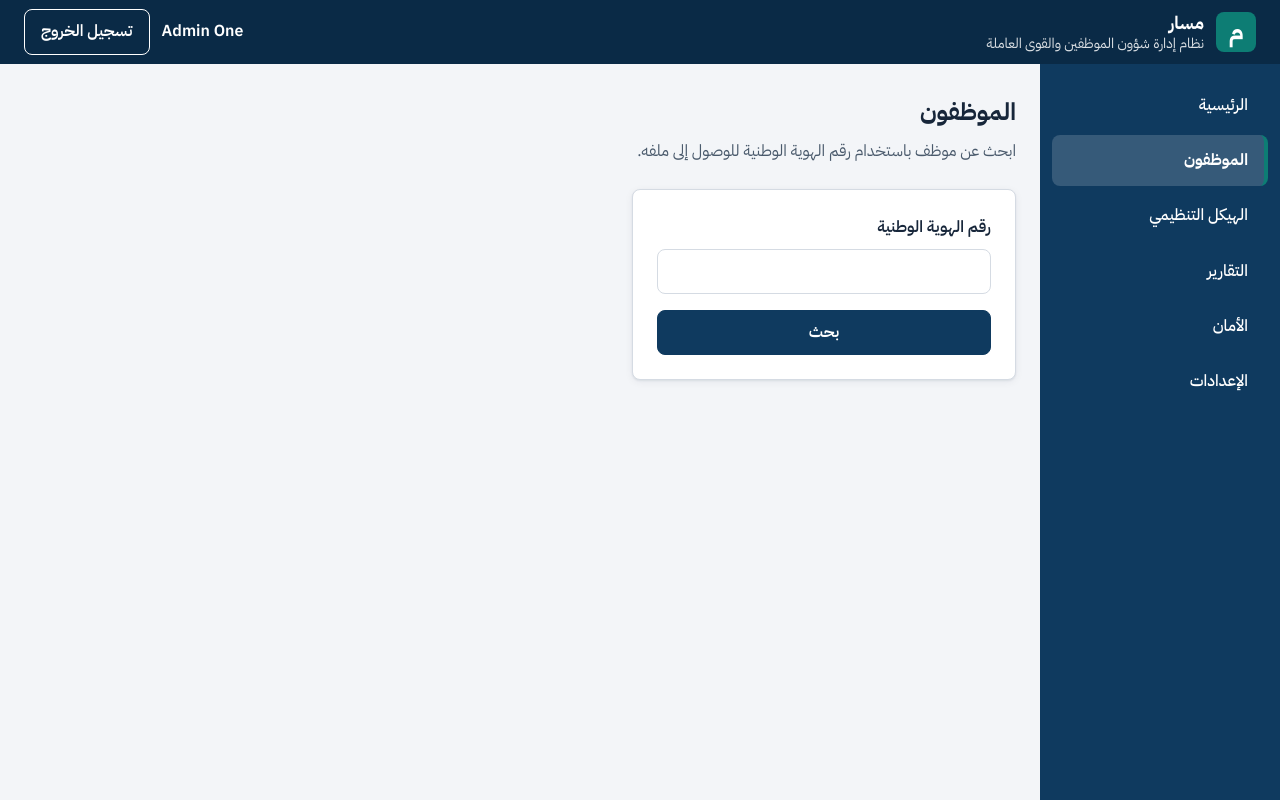
Test: EmployeesPage › shows a not-found message on a 404
Type "0000000000" into the field labelled "رقم الهوية الوطنية" at (824, 272), box [657,249,991,294]
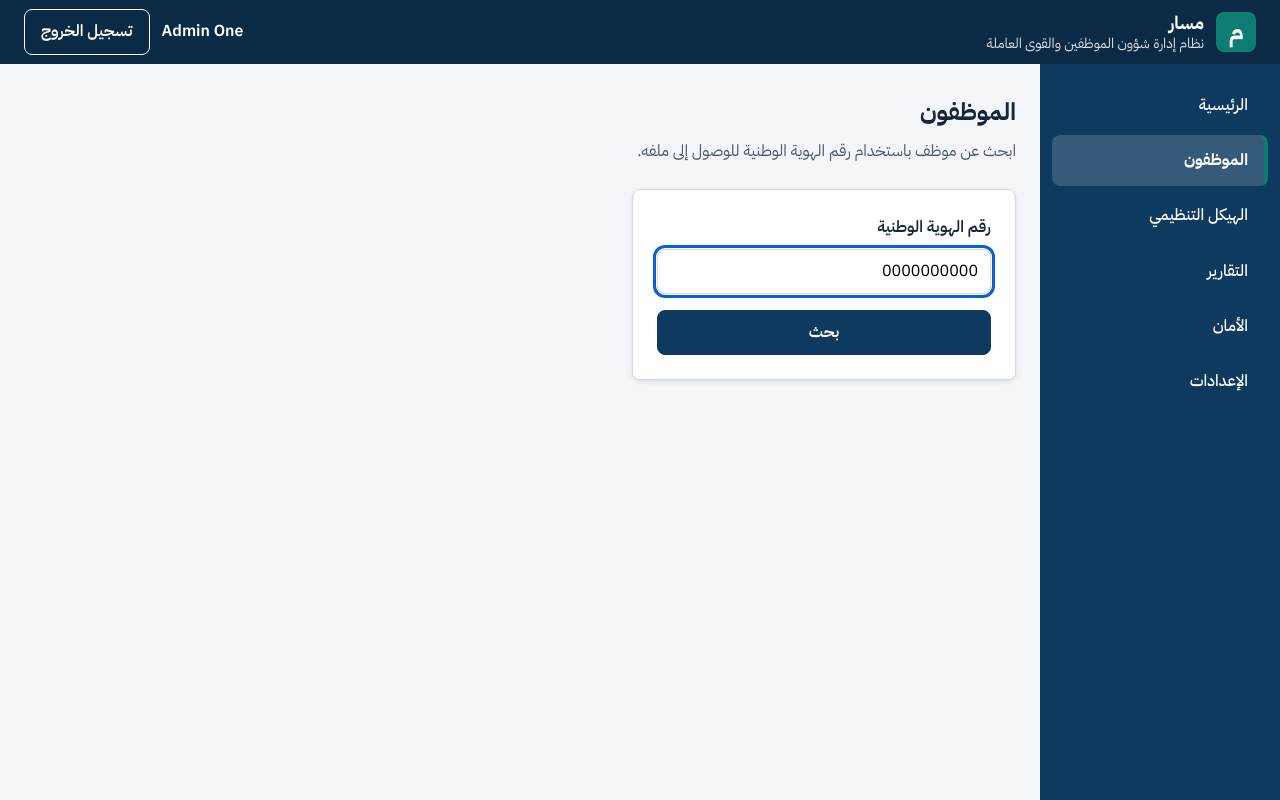
Click the button "بحث" at (824, 333), box [657,310,991,355]
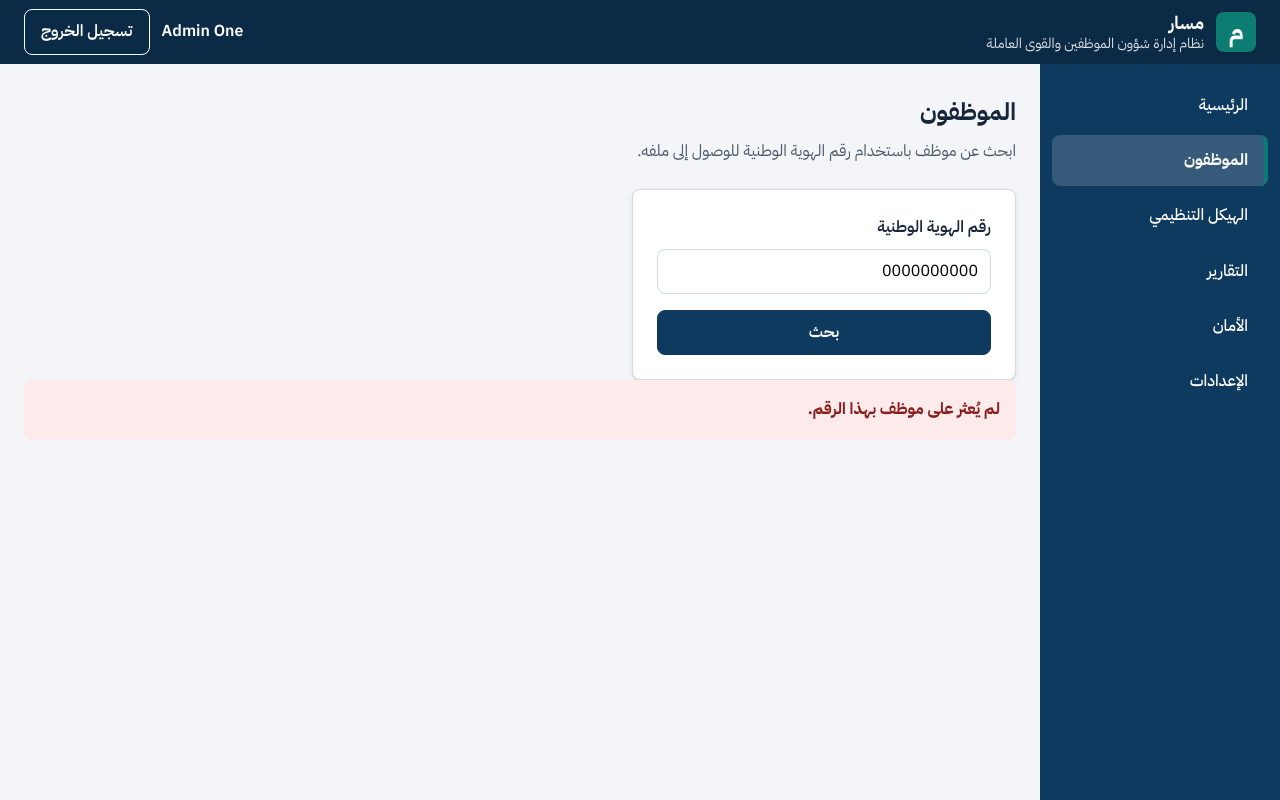
Expected: the text "لم يُعثر على موظف بهذا الرقم." is shown, [808,397,1000,421]
